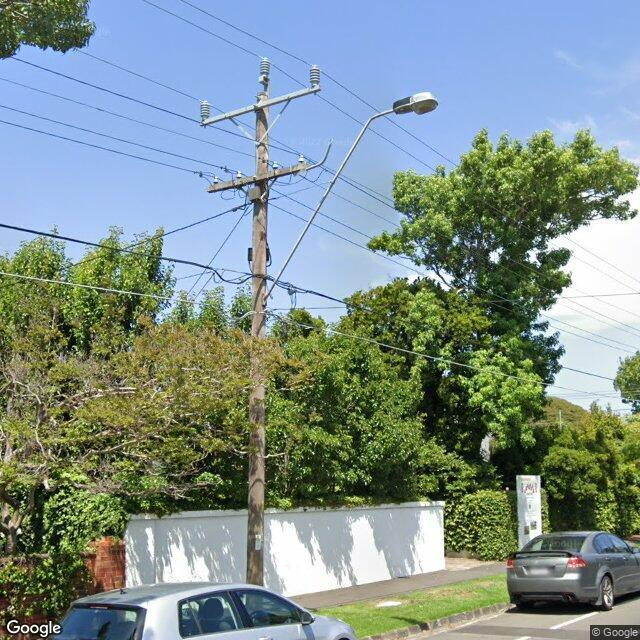HV-transmission: (198, 56, 322, 127)
crossarm: (193, 153, 307, 199), (202, 84, 322, 125)
streetlight: (263, 90, 440, 305)
timber-pole: (245, 89, 271, 586)
